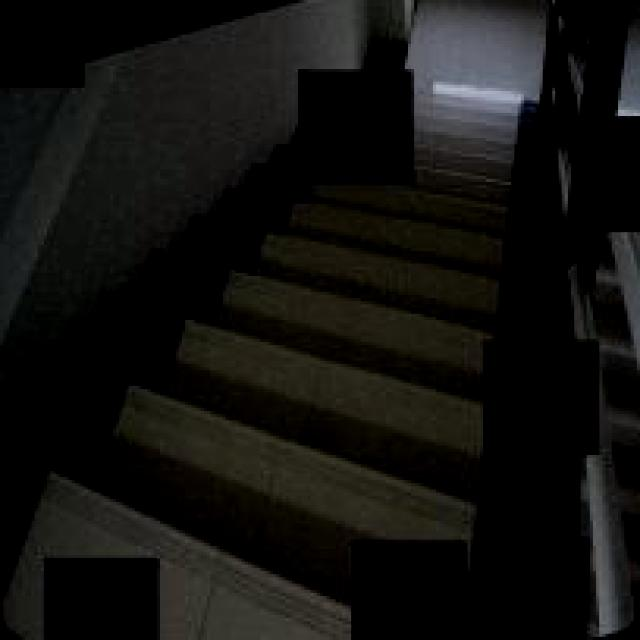downstair: (164, 186, 478, 538)
